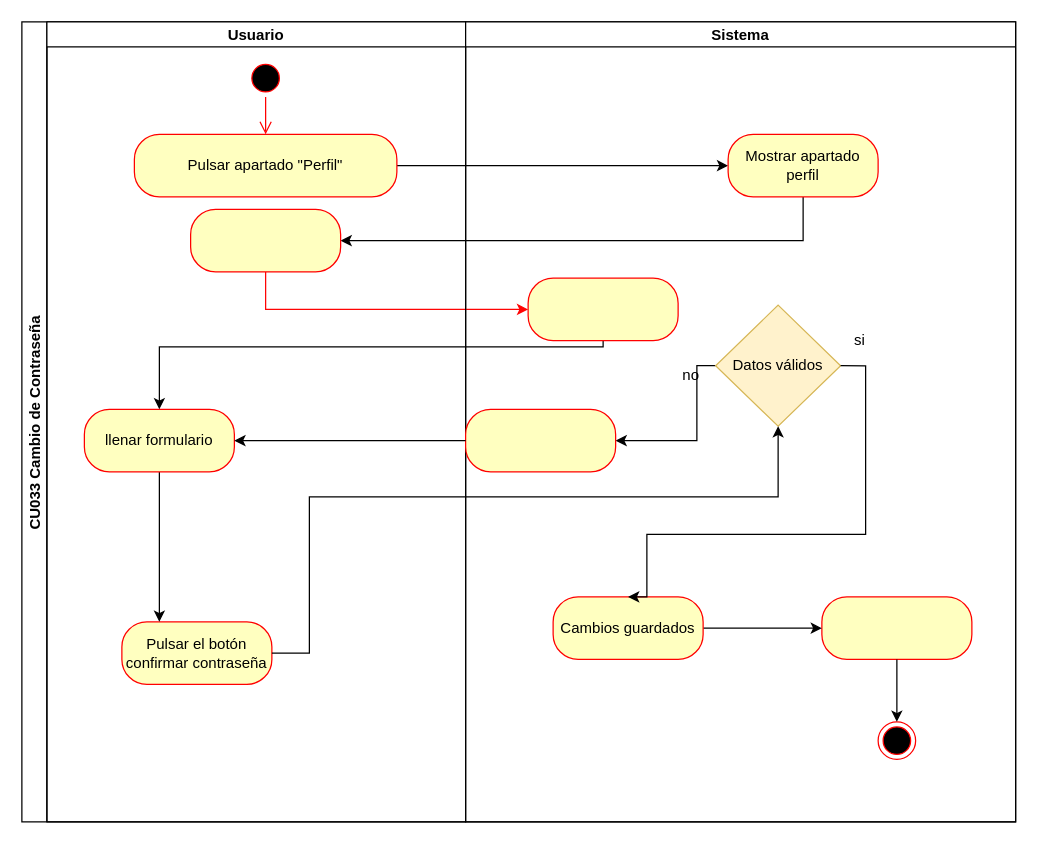
Some shapes in this 1038 by 844 pixel diagram are drawn without their labels. The centre of each missing label's shape, as x and y in pixels:
Botón "Cambiar contraseña": [265,240]
Mostrar formulario: [602,309]
Mostrar mensaje de error: [540,440]
Mostrar mensaje de éxito: [896,627]
